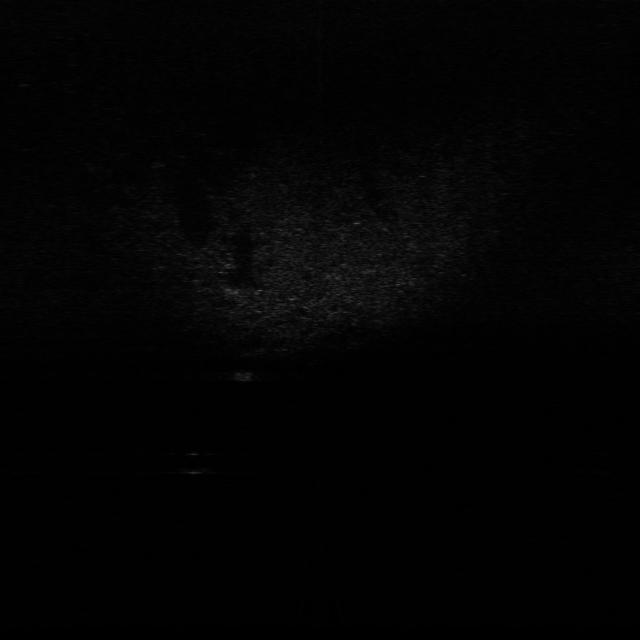ball: (176, 448, 212, 478)
cube: (227, 361, 261, 387)
